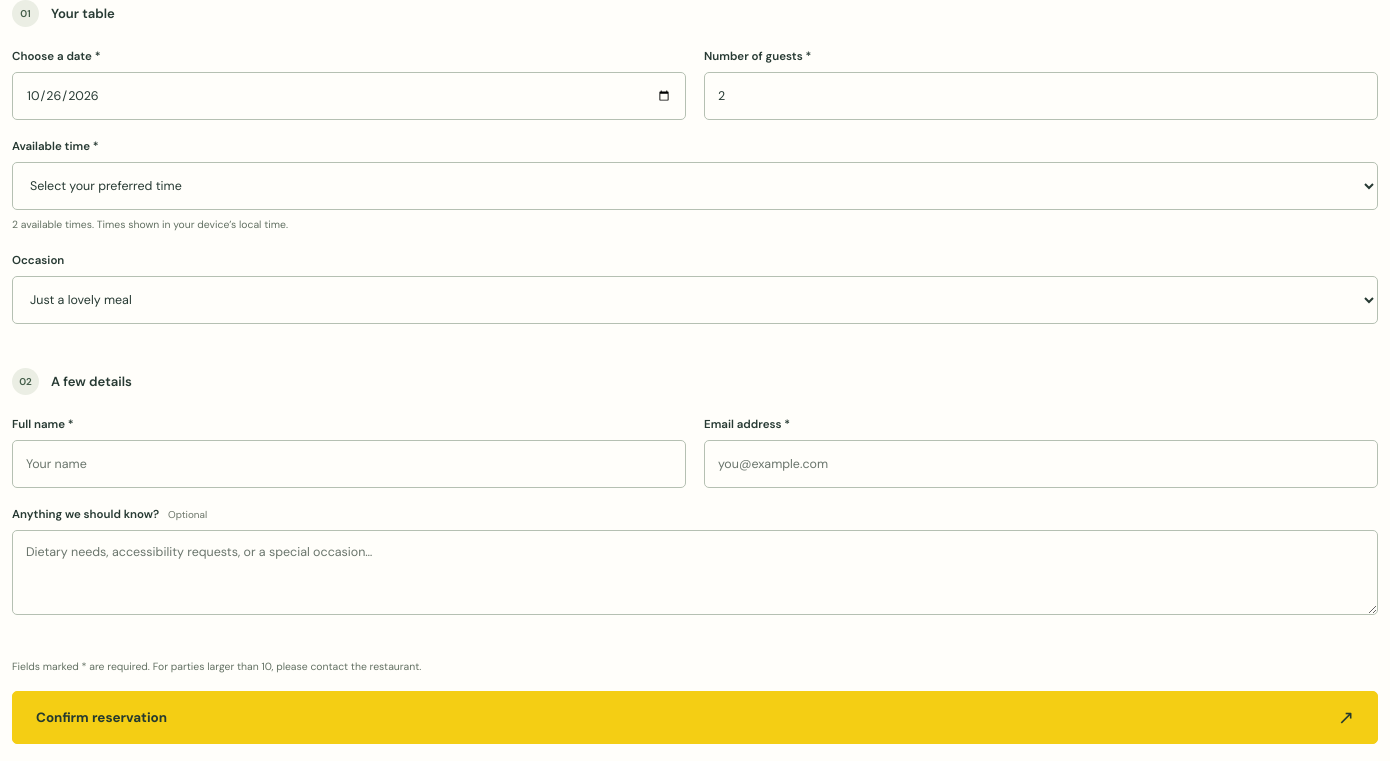
Test: reservation form › keeps the failure visible and preserves user details after a rejected submission
Select "18:00" in the dropdown labelled "Available time *" at (695,186), box [12,162,1378,210]
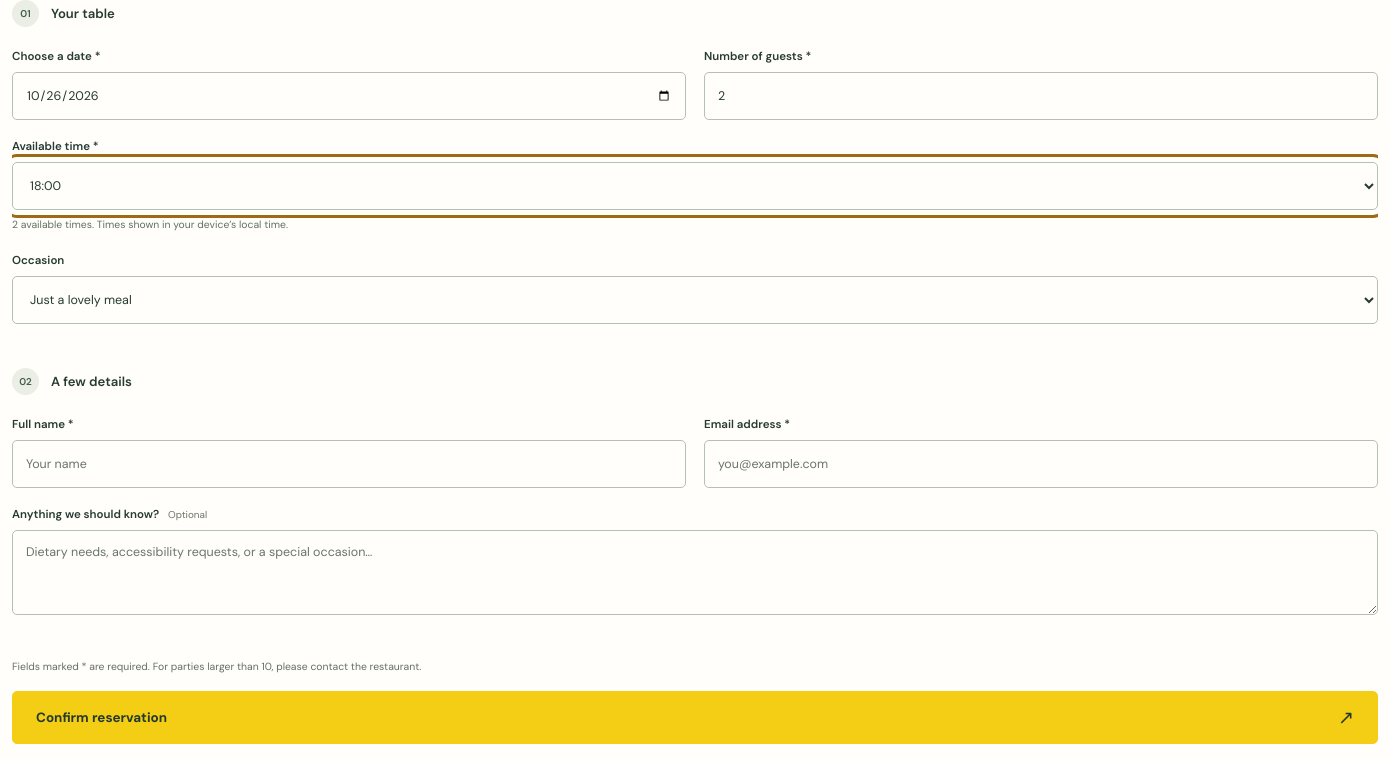
Type "Test Guest" into the field labelled "Full name *" at (349,464), box [12,440,686,488]
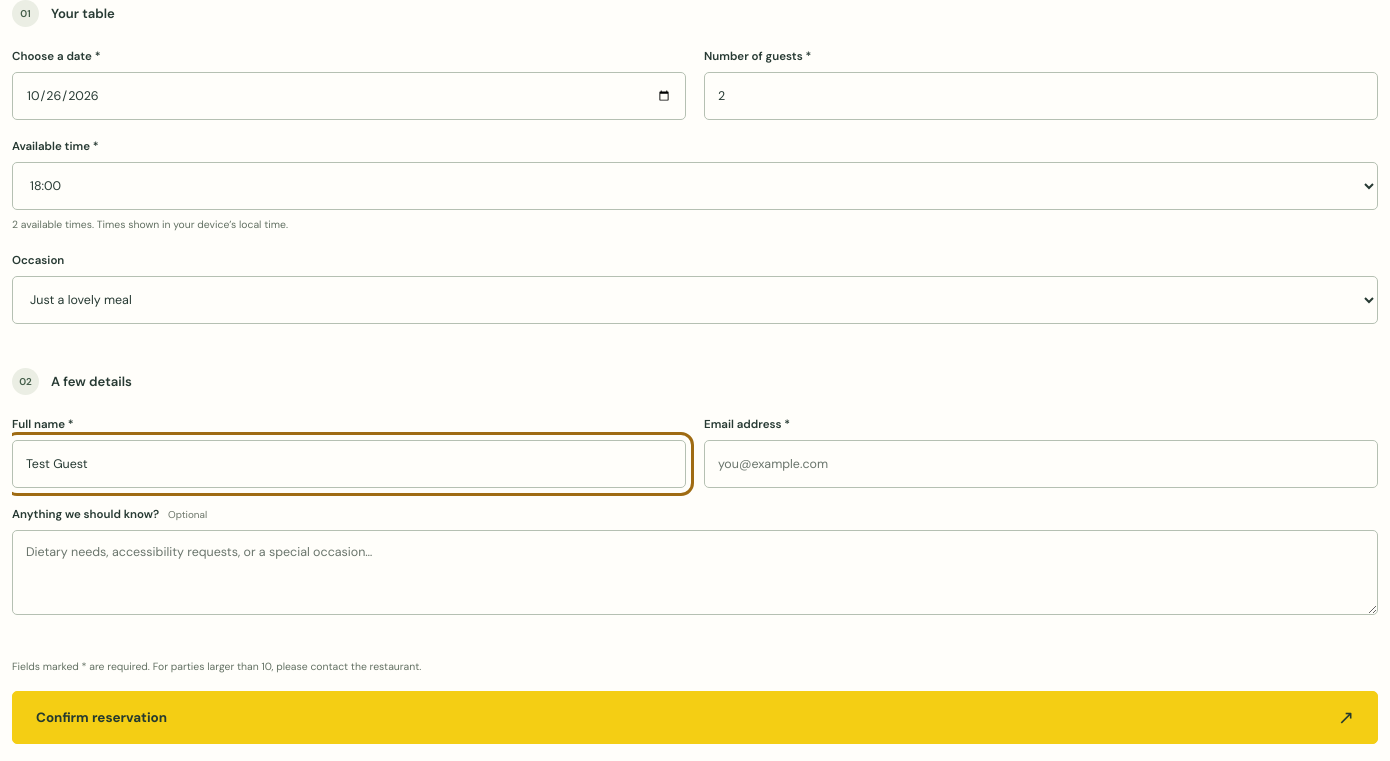
Type "guest@example.com" into the field labelled "Email address *" at (1041,464), box [704,440,1378,488]
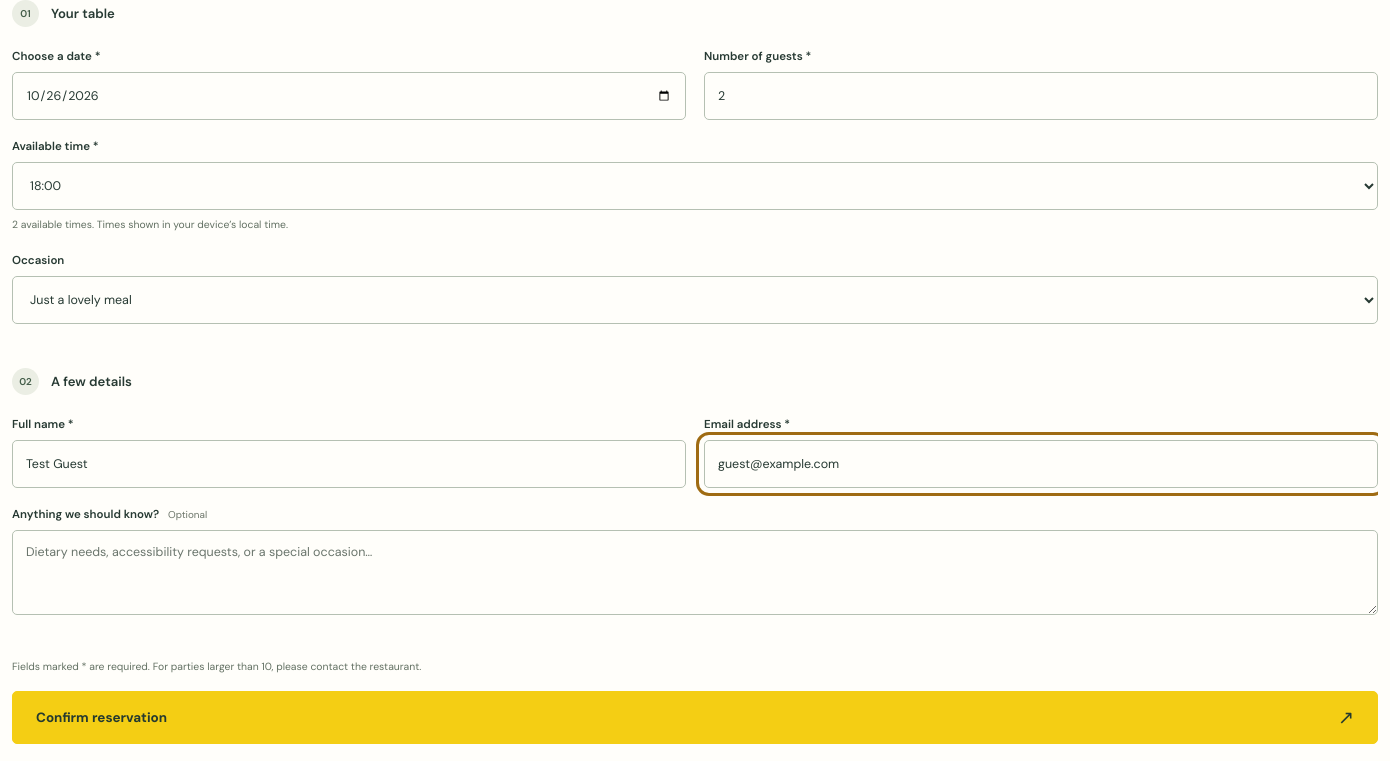
Click the button "Confirm reservation ↗" at (102,718), box [12,691,1378,744]
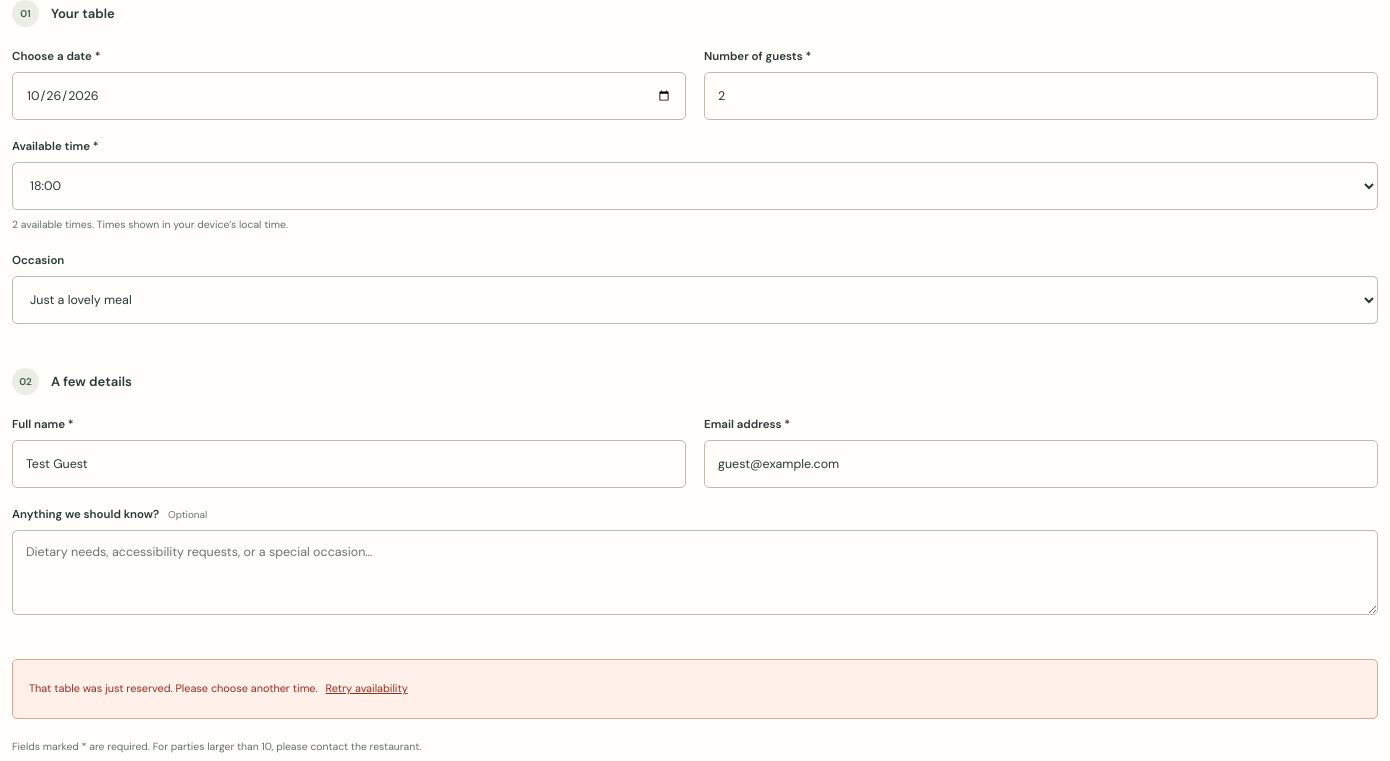
Expected: the message "That table was just reserved. Please choose another time. Retry availability" is shown, [12,660,1378,719]
